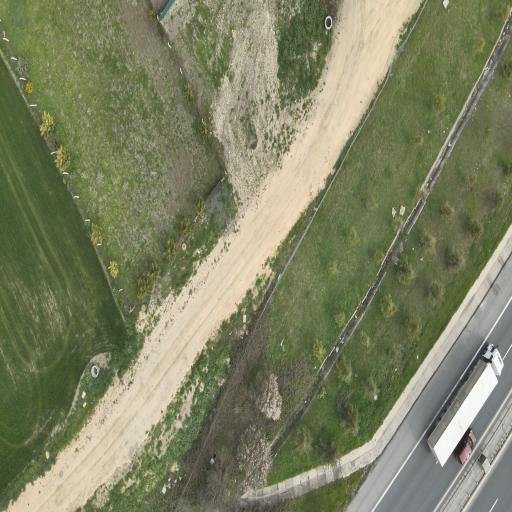car: (427, 345, 502, 466), (454, 429, 475, 465)
